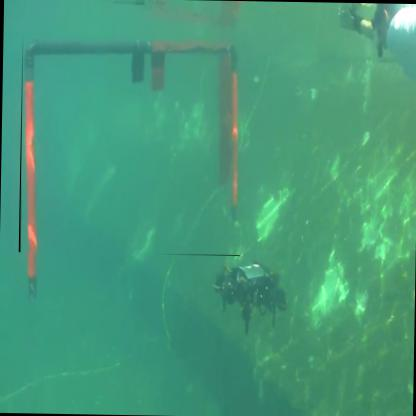gate: (19, 32, 245, 258)
